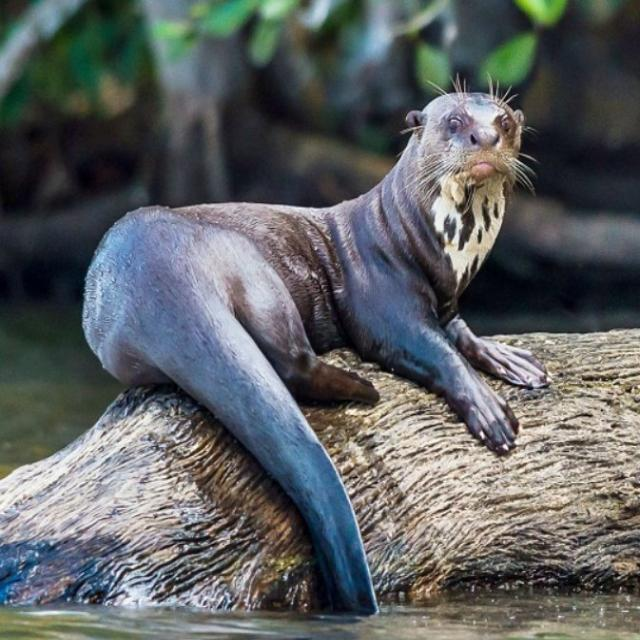Otter: (80, 74, 551, 602)
